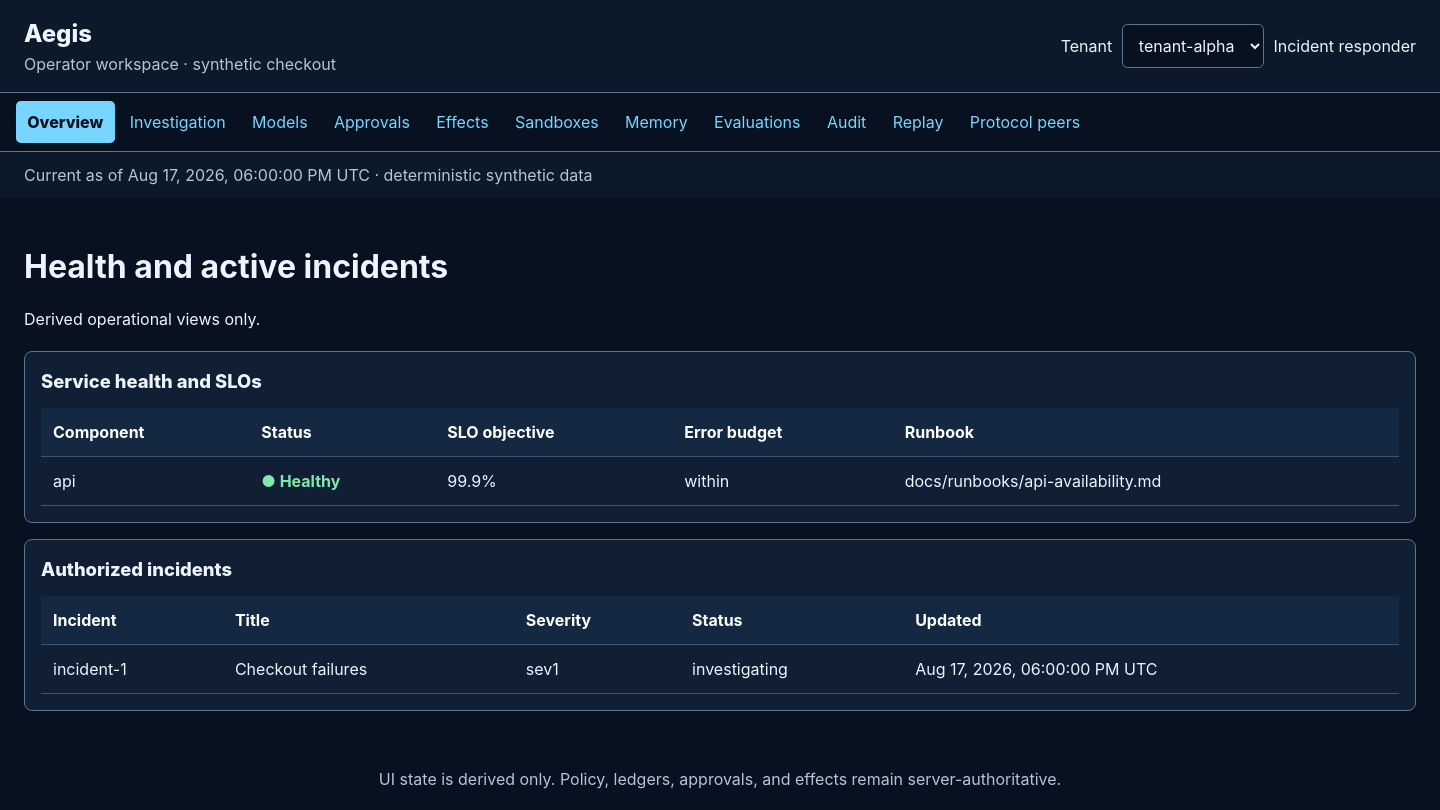
Test case: RootLayout navigation and shell › renders tenant error when switchTenant rejects
Select "tenant-beta" in the dropdown labelled "Tenant" at (1193,46), box [1122,24,1264,68]
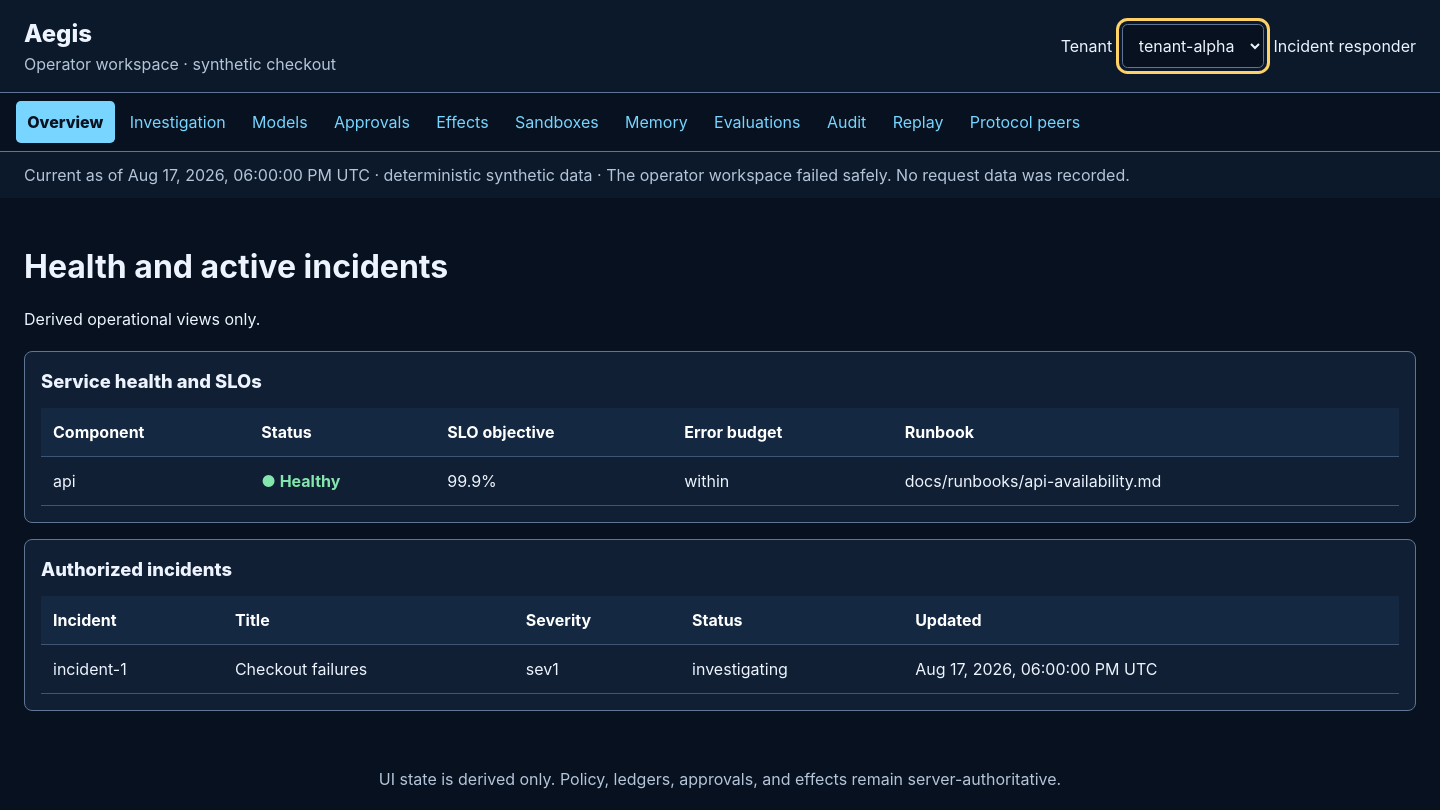
expect the message shows "operator workspace failed safely": met, box [592,165,1130,185]
